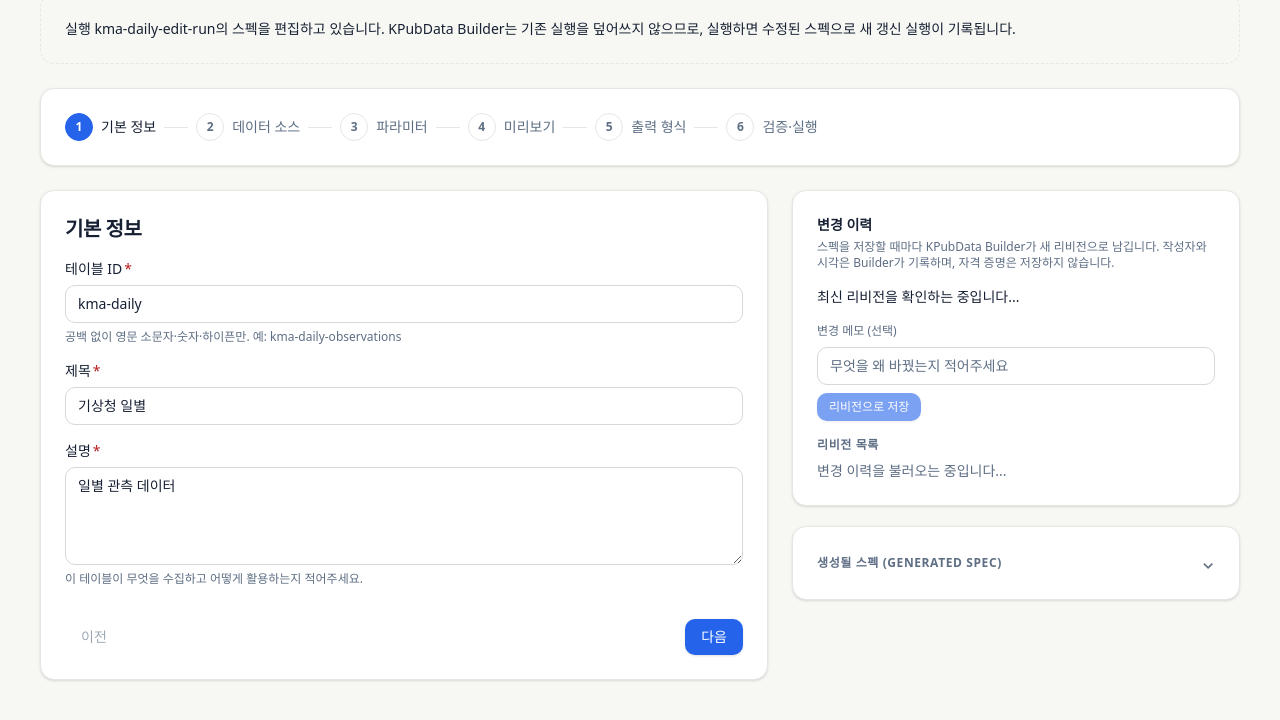
Spec edit wizard › shows source failure warnings beside successful preview rows (#235)
(page scrolled)
Expected: the heading "기본 정보" is shown, [65,215,141,242]
Click the button "다음" at coordinates (714, 637), box [685,619,743,655]
(page scrolled)
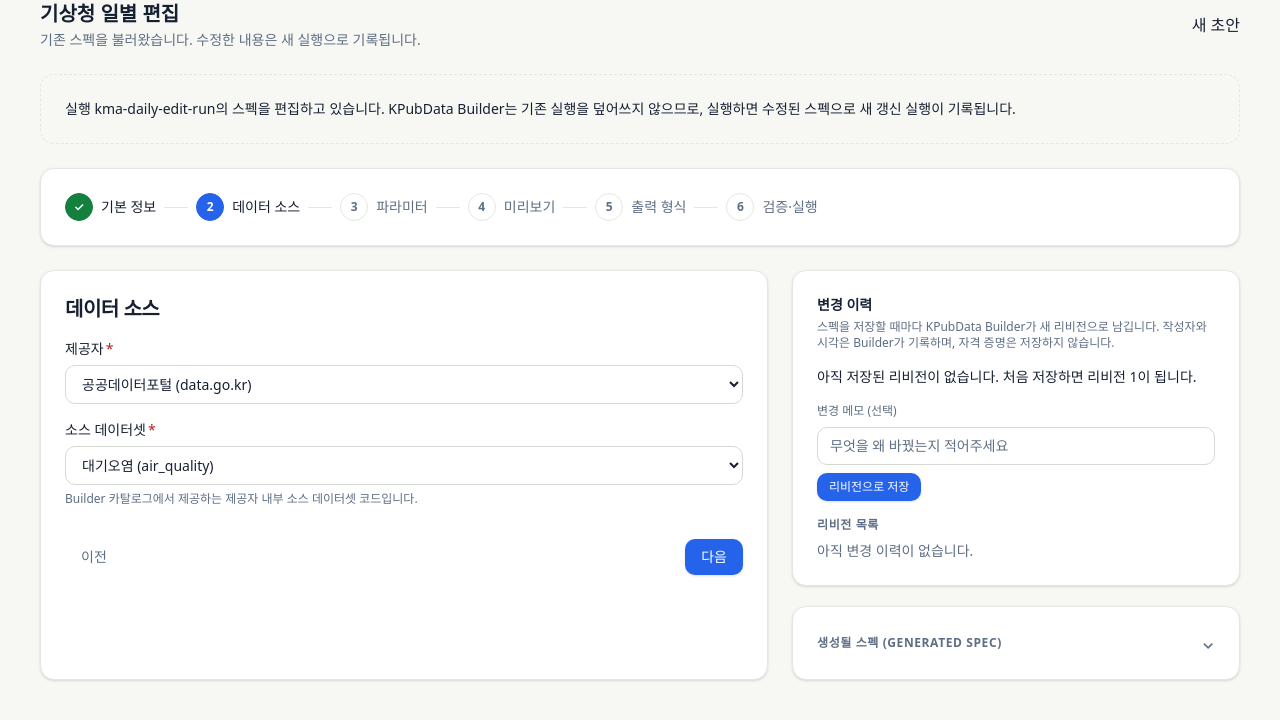
Now the heading "데이터 소스" is shown, box [65,295,159,322]
Select "공공데이터포털 (data.go.kr)" in the dropdown labelled "제공자*" at coordinates (404, 384), box [65,365,743,404]
Select "apt-trade" in the dropdown labelled "소스 데이터셋*" at coordinates (404, 466), box [65,446,743,485]
Click the button "다음" at coordinates (714, 557), box [685,539,743,575]
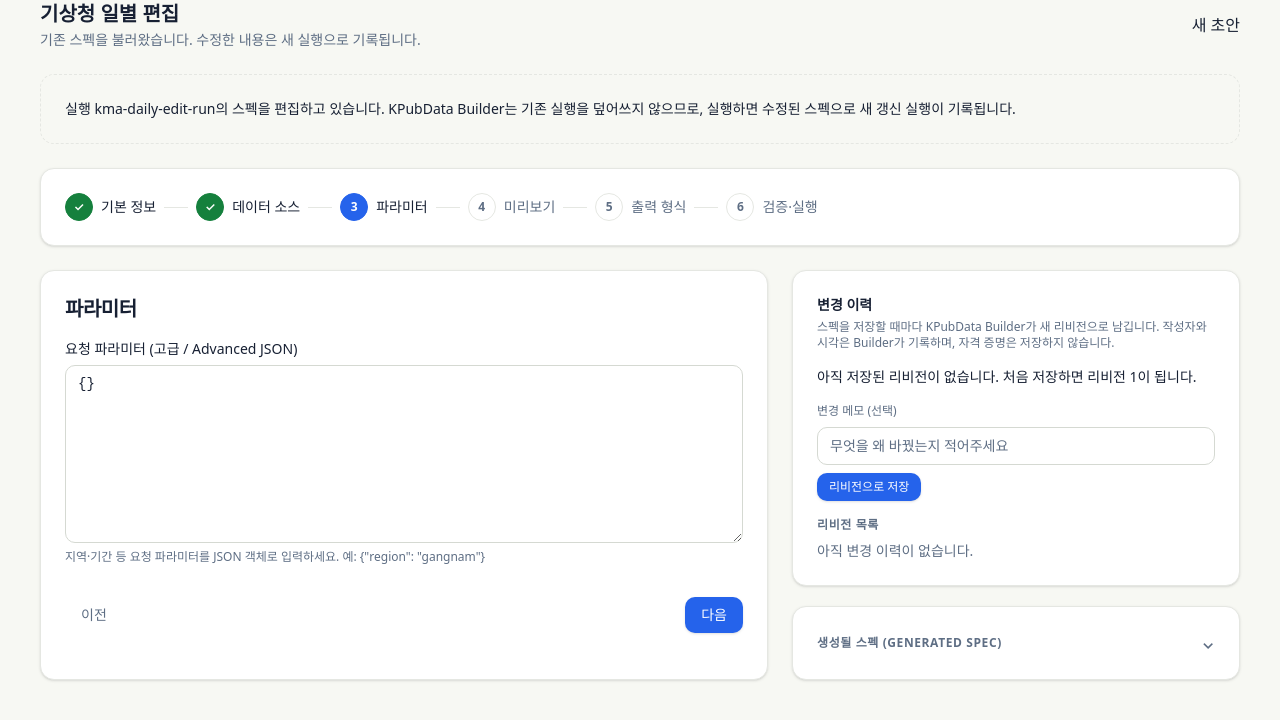
Now the heading "파라미터" is shown, box [65,295,137,322]
Click the button "다음" at coordinates (714, 615), box [685,597,743,633]
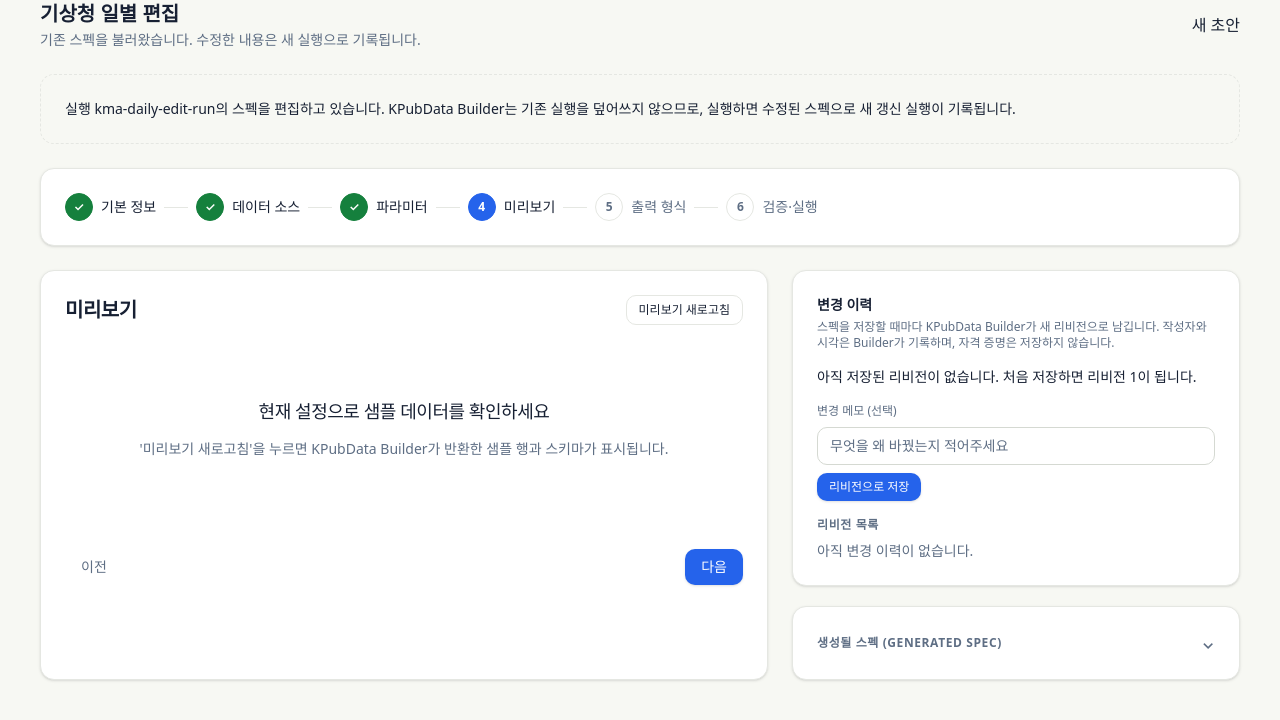
Now the heading "미리보기" is shown, box [65,296,137,324]
Click the button "미리보기 새로고침" at coordinates (684, 310), box [626,295,743,325]
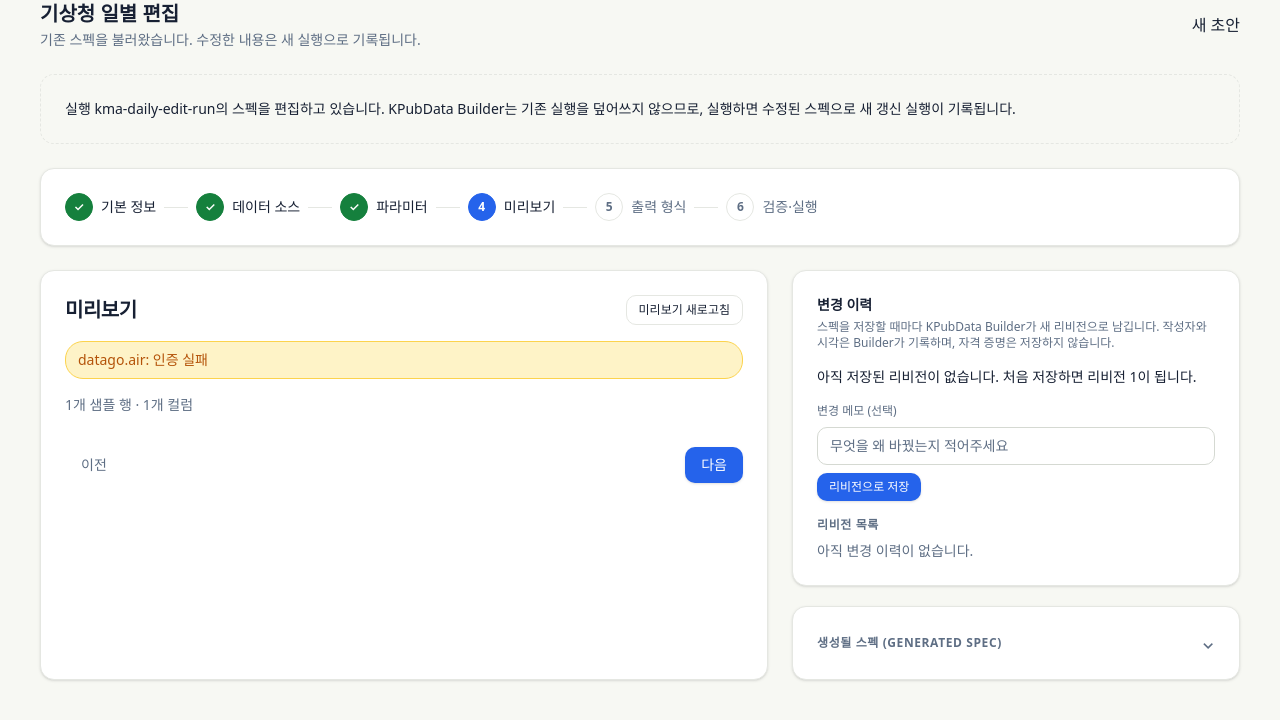
Now the text "1개 샘플 행 · 1개 컬럼" is shown, box [65,395,193,414]
Now the message reads "datago.air: 인증 실패", box [78,350,208,369]
